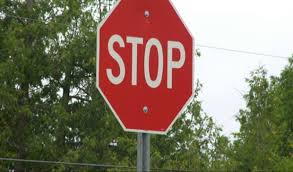stop_sign: (93, 4, 196, 136)
